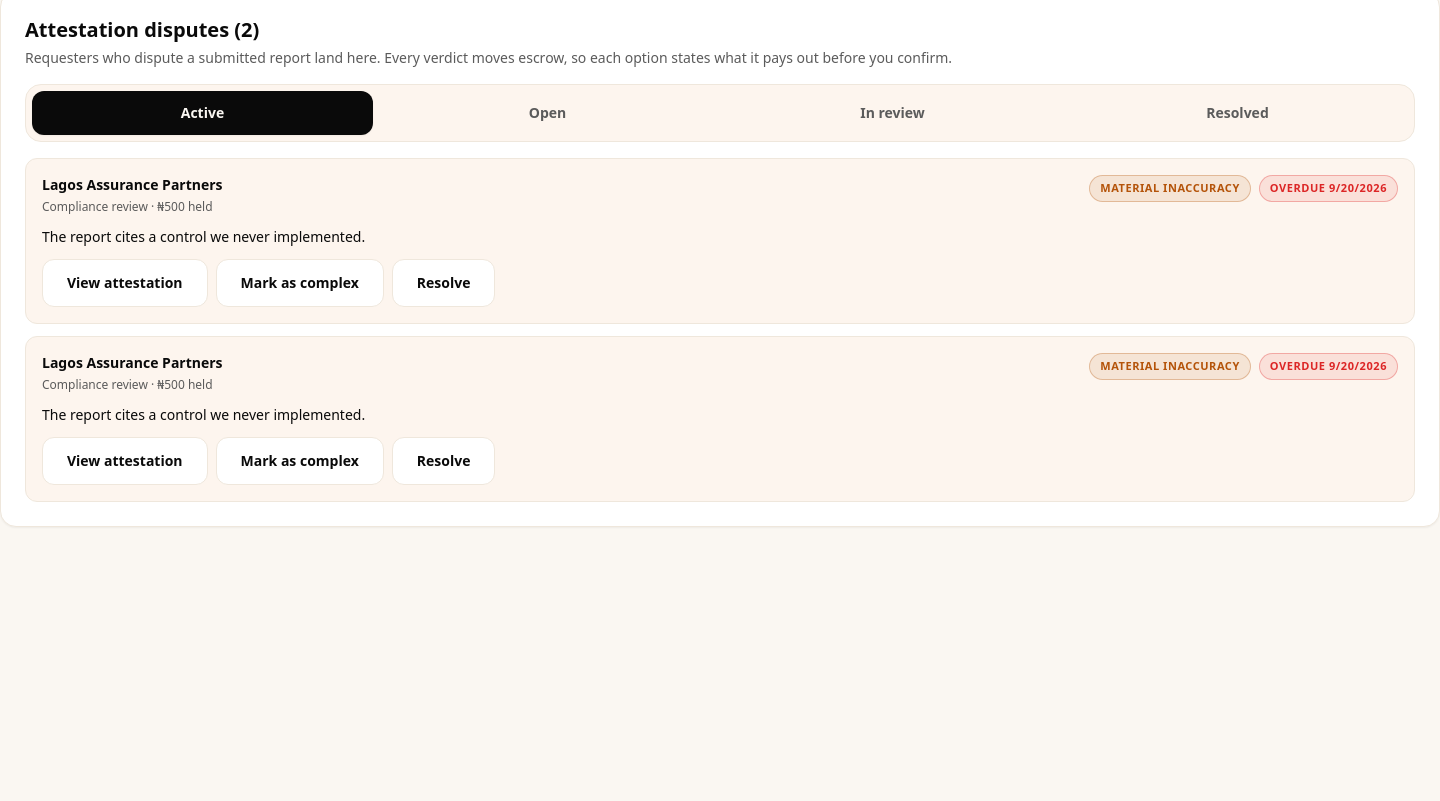
Scenario: AdminAttestationDisputesPanel › does not carry one dispute's verdict over to another
Click the 1st button "Resolve" at (444, 283), box x1=392 y1=259 x2=496 y2=307
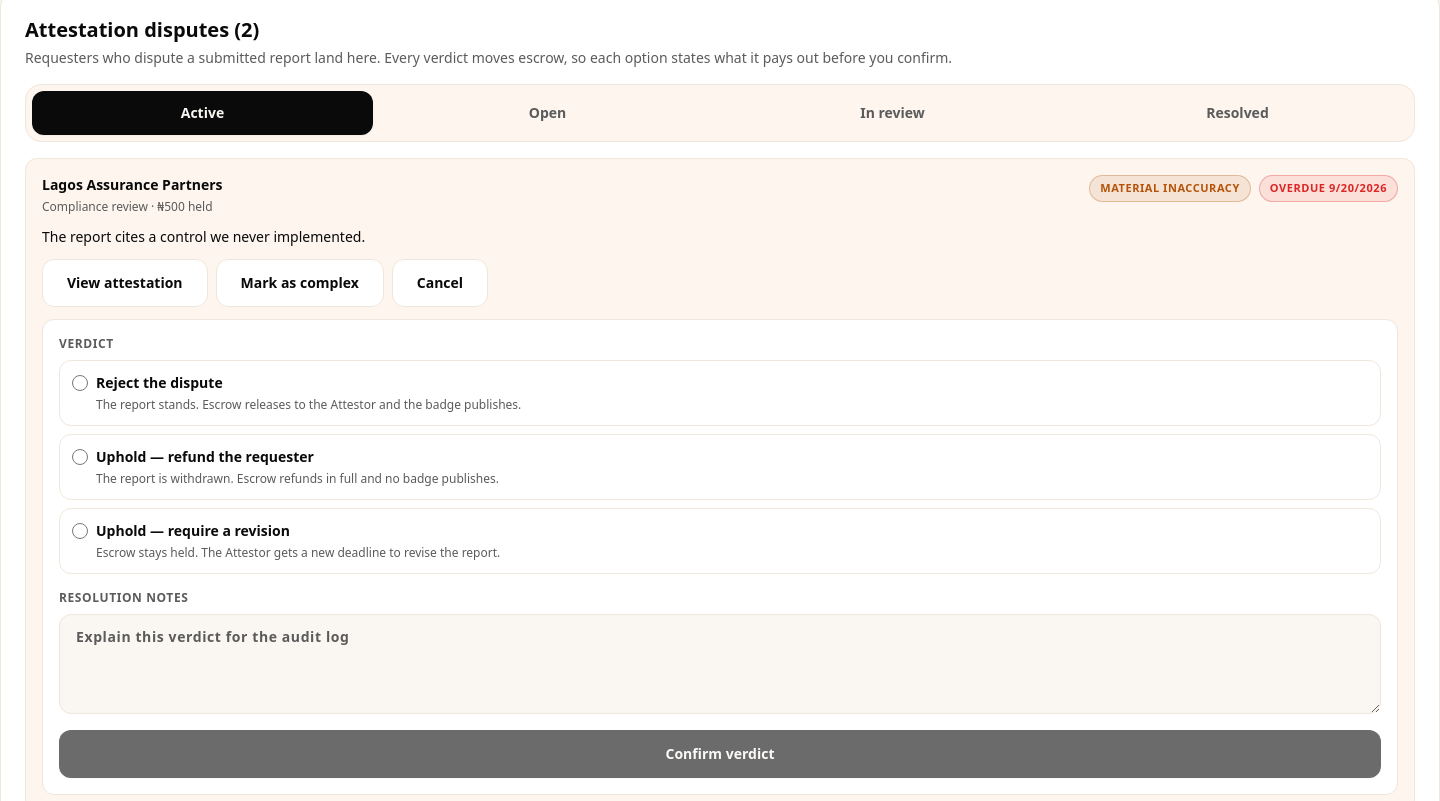
Click the radio button labelled "Reject the dispute" at (80, 383), box x1=72 y1=375 x2=88 y2=391
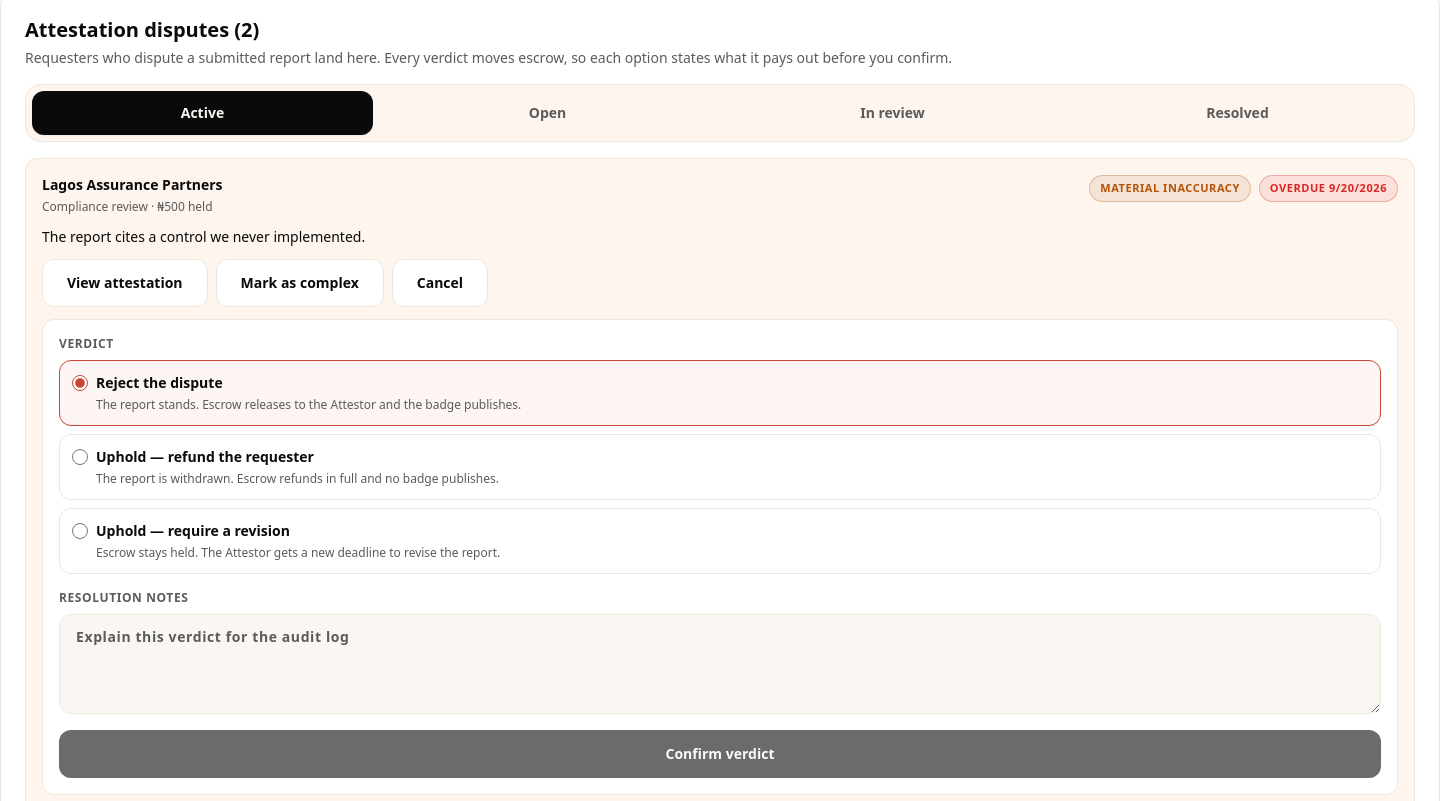
Type "Notes typed against the first dispute." into the text box labelled "Resolution notes" at (720, 664), box x1=59 y1=614 x2=1381 y2=714
(page scrolled)
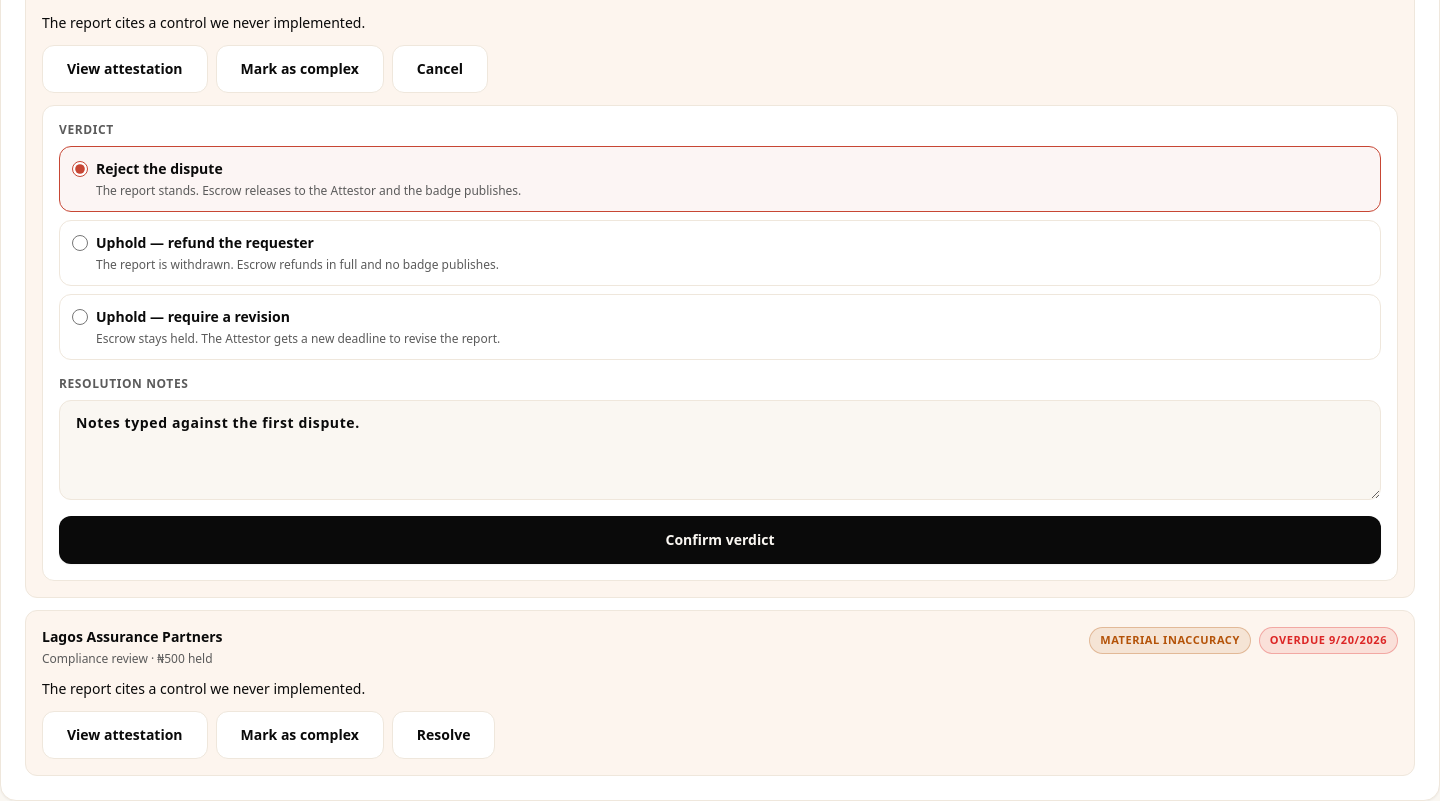
Click the button "Resolve" at (444, 735), box x1=392 y1=711 x2=496 y2=759
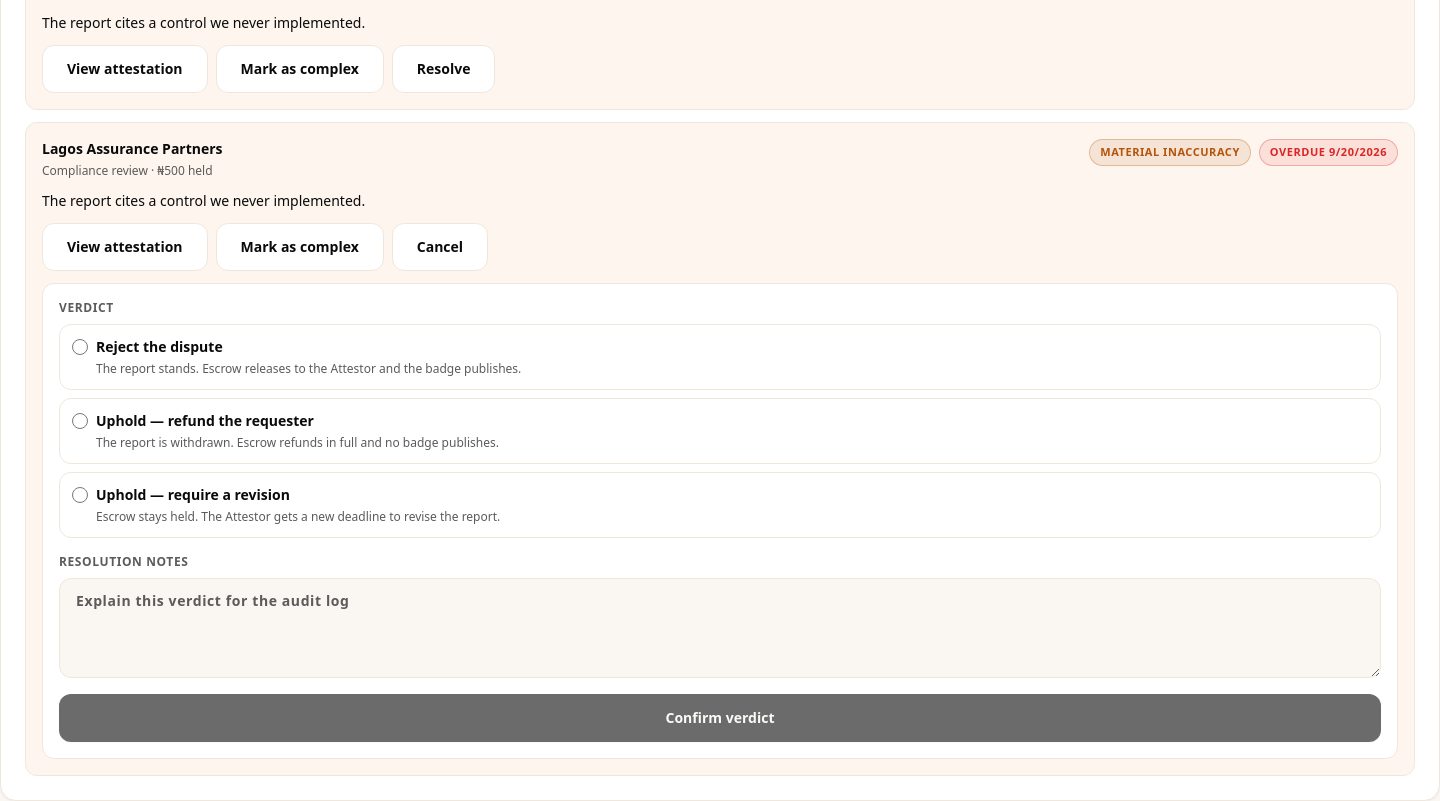
Expected: the text box labelled "Resolution notes" is empty, x1=59 y1=578 x2=1381 y2=678
Expected: the radio button labelled "Reject the dispute" is not checked, x1=72 y1=339 x2=88 y2=355
